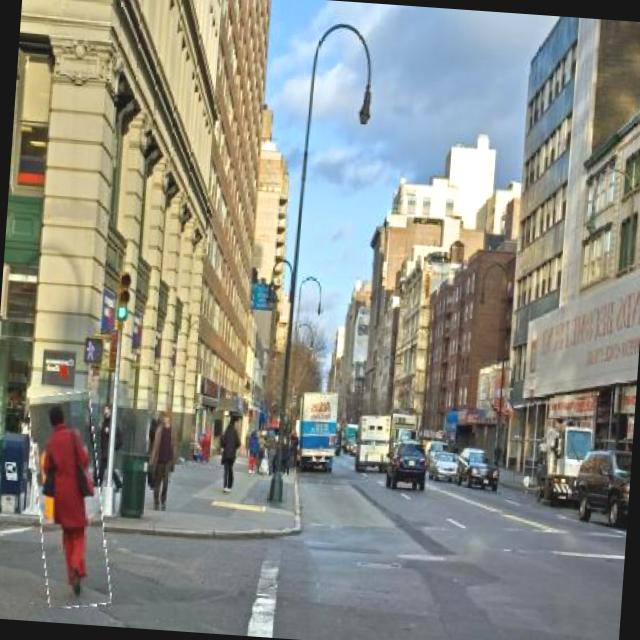Person: (21, 390, 116, 610)
